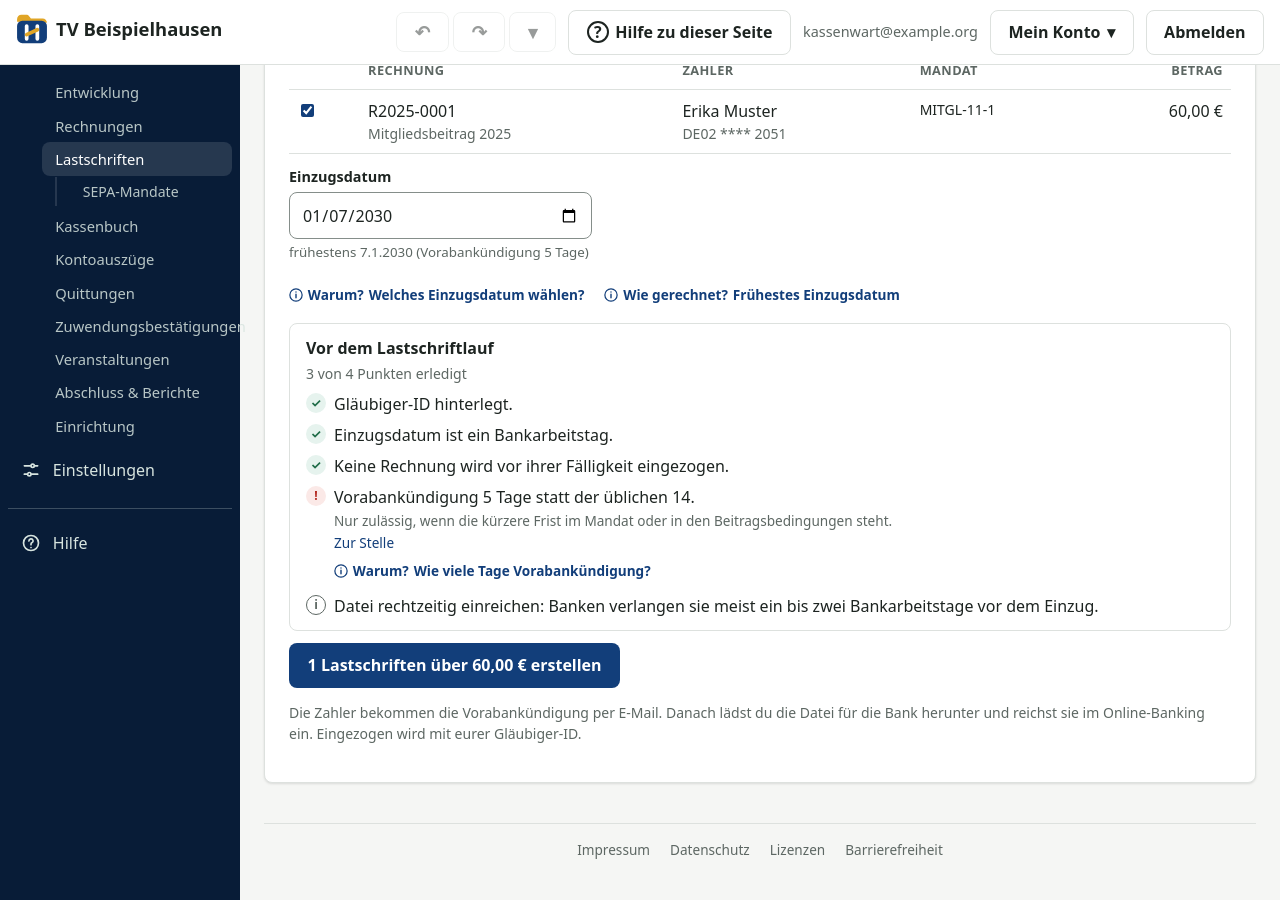
Beiträge › erstellt einen Lastschriftlauf und bietet die Datei für die Bank an
The image size is (1280, 900).
(page scrolled)
Expected: the text "MITGL-11-1" is shown, x1=912 y1=89 x2=1092 y2=153
Expected: the date field labelled "Einzugsdatum" holds "2030-01-07", x1=289 y1=192 x2=592 y2=239
Click the button "1 Lastschriften über 60,00 € erstellen" at (455, 665), box x1=289 y1=643 x2=620 y2=688
(page scrolled)
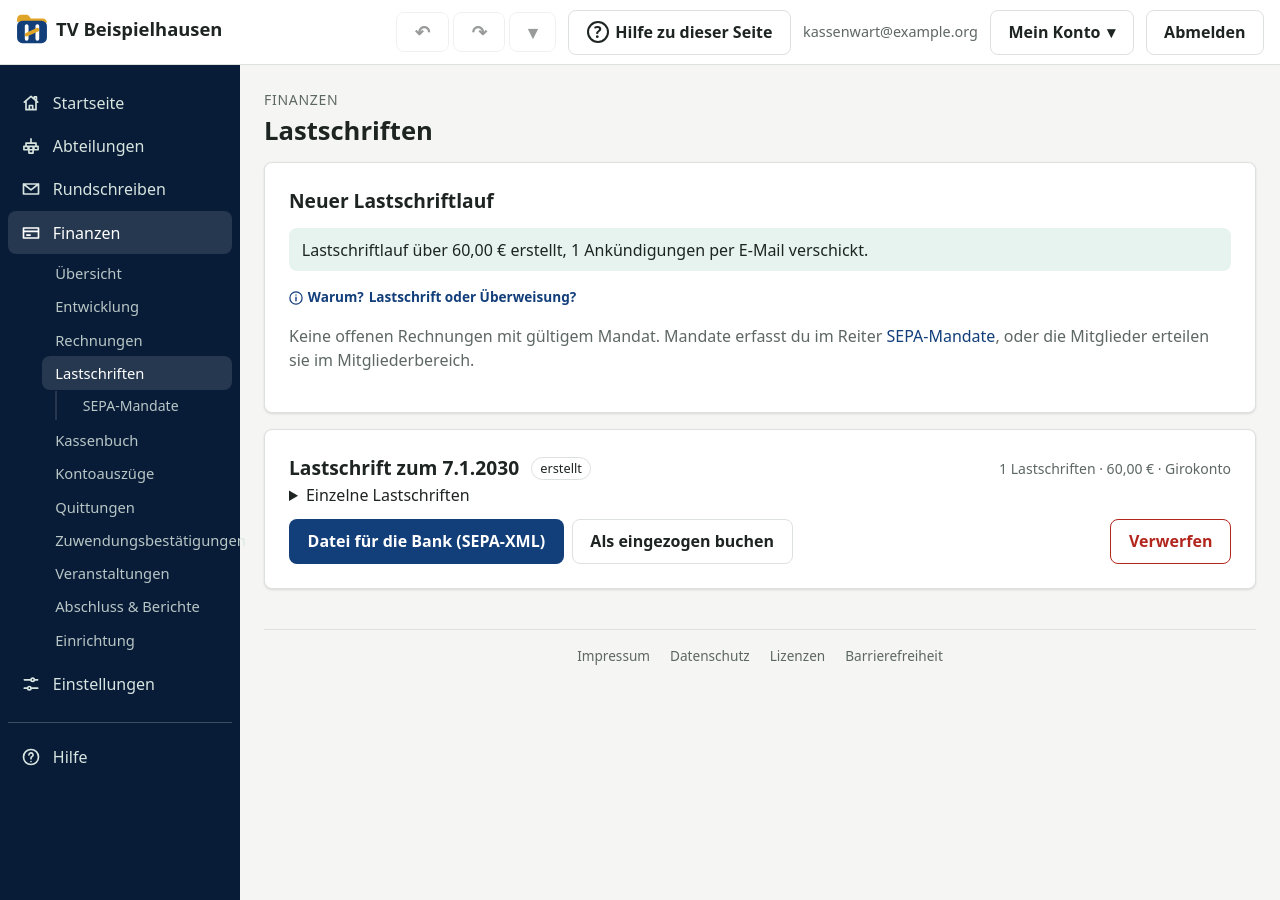
Expected: the text "Lastschriftlauf über 60,00 € erstellt, 1 Ankündigungen per E-Mail verschickt." is shown, x1=289 y1=228 x2=1231 y2=271
